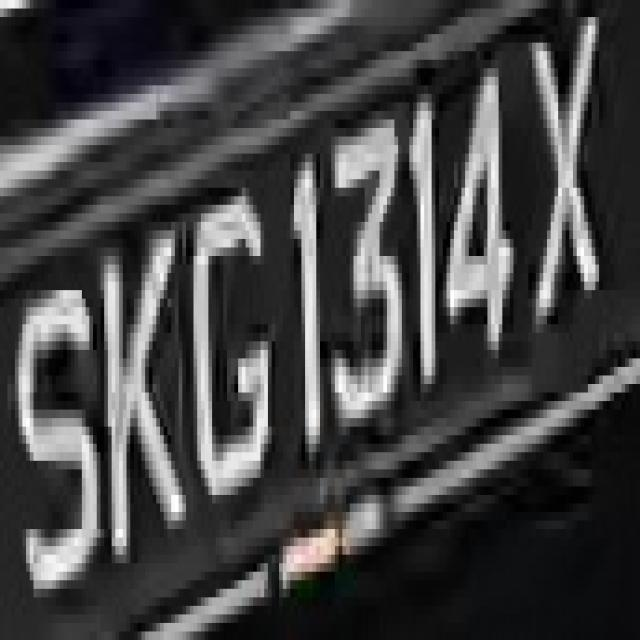1: (290, 137, 331, 470), (406, 77, 446, 418)
3: (331, 119, 402, 444)
4: (432, 51, 517, 367)
G: (186, 154, 275, 520)
K: (85, 222, 194, 563)
S: (11, 256, 104, 631)
X: (524, 8, 606, 333)
